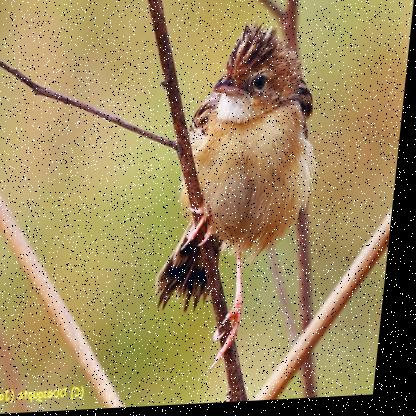Burung: (155, 27, 329, 375)
